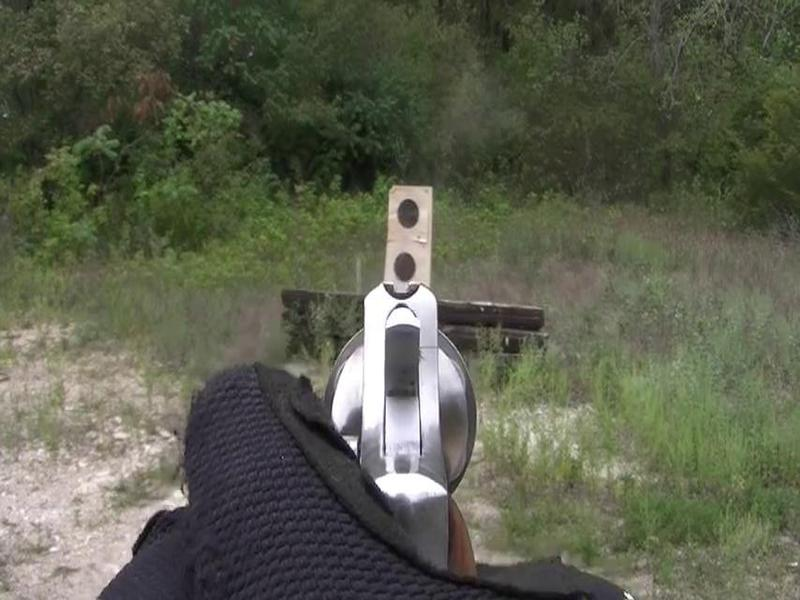Revolver: (299, 253, 498, 559)
